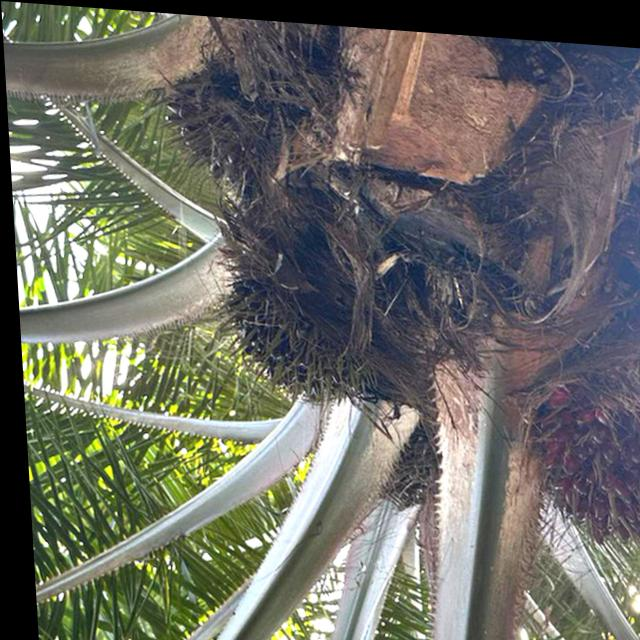unripe: (202, 240, 396, 410)
